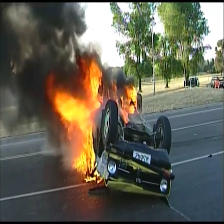fire_h: (46, 53, 102, 175), (120, 86, 139, 114)
fire_l: (83, 169, 103, 183), (120, 109, 130, 124), (112, 80, 118, 104), (103, 88, 110, 108)
